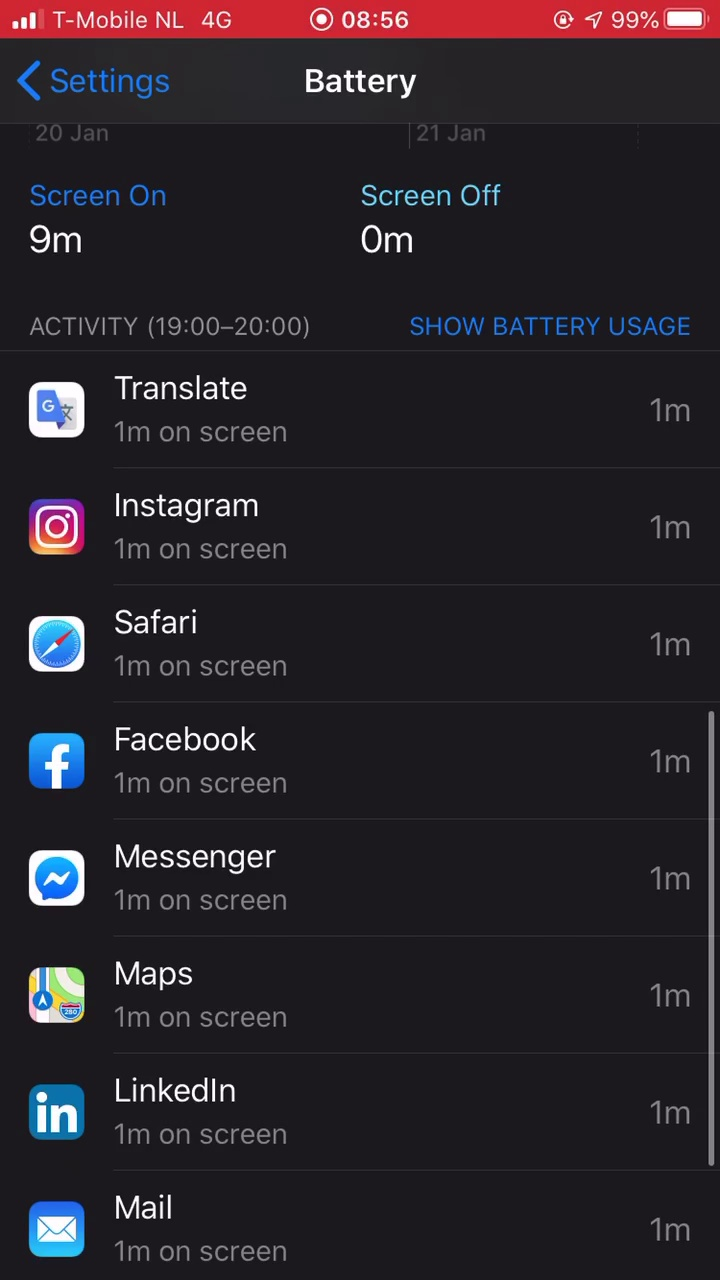activity: (20, 307, 323, 344)
app: (21, 368, 706, 449), (17, 483, 702, 564), (22, 603, 707, 684), (15, 720, 700, 801), (18, 840, 703, 921), (10, 955, 695, 1036), (17, 1077, 702, 1158), (17, 1191, 702, 1272)
